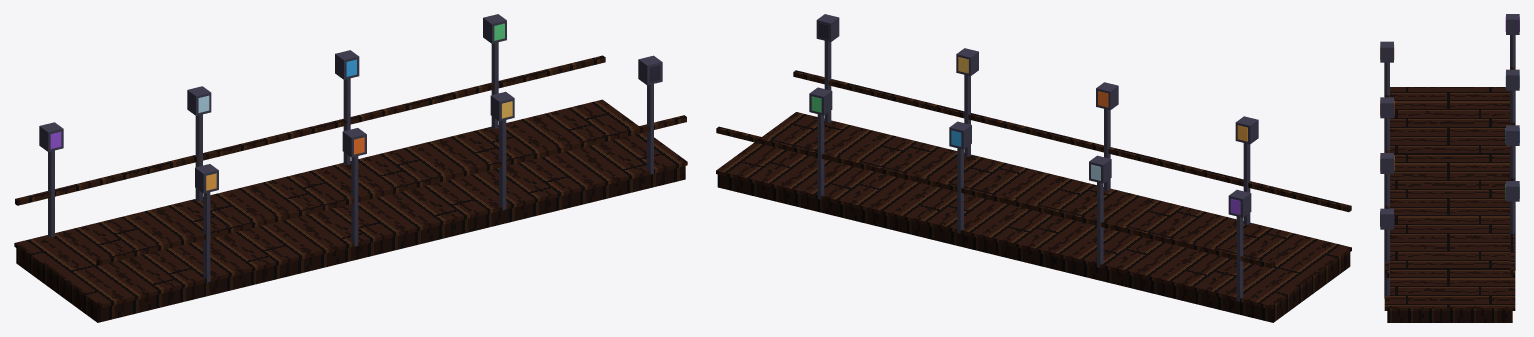
File: lantern_bridge.glb
The picture shows the model from 3 angles, left to right: view 1: azimuth 30°, elevation 25°; view 2: azimuth 150°, elevation 25°; view 3: azimuth 270°, elevation 25°; orthographic projection. The views are drawn at different scales.
Visible parts, largest first — view 1: lantern_bridge; view 2: lantern_bridge; view 3: lantern_bridge.
Part boxes in pixels (x1,y1,x2,y2): lantern_bridge: (14,14,687,322); lantern_bridge: (716,14,1351,322); lantern_bridge: (1380,14,1519,322).
Bounding box in the file's own units: 10 × 2.07 × 2.67.
Materials: 3 (1 with a texture image).
